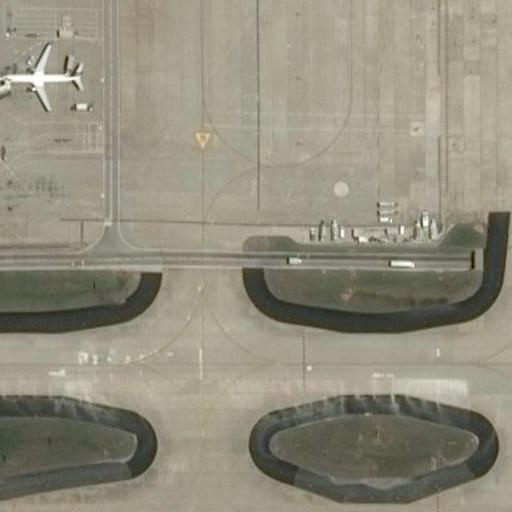Aircraft: (0, 38, 89, 117)
